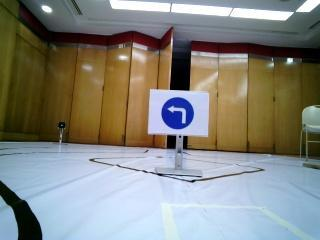left: (152, 87, 211, 136)
